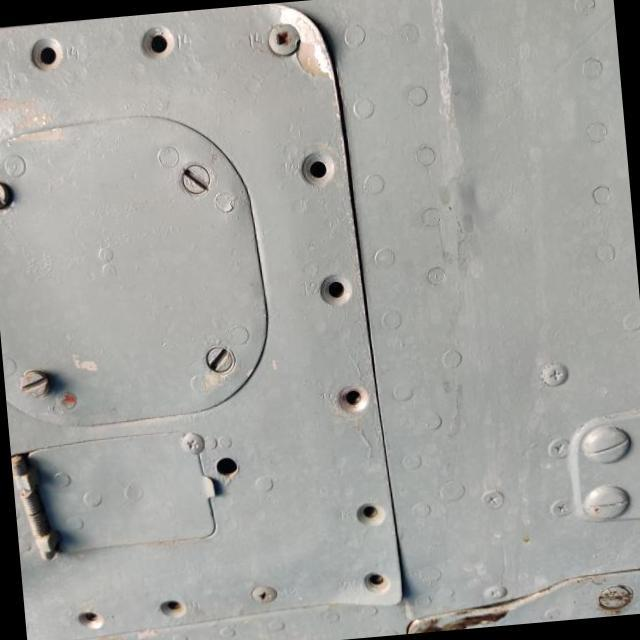Fastener Damage: (270, 120, 366, 216), (306, 353, 409, 442), (292, 242, 386, 334), (116, 9, 200, 86), (338, 541, 417, 622), (5, 19, 90, 94), (334, 470, 413, 550), (45, 572, 132, 640), (136, 569, 215, 640)
